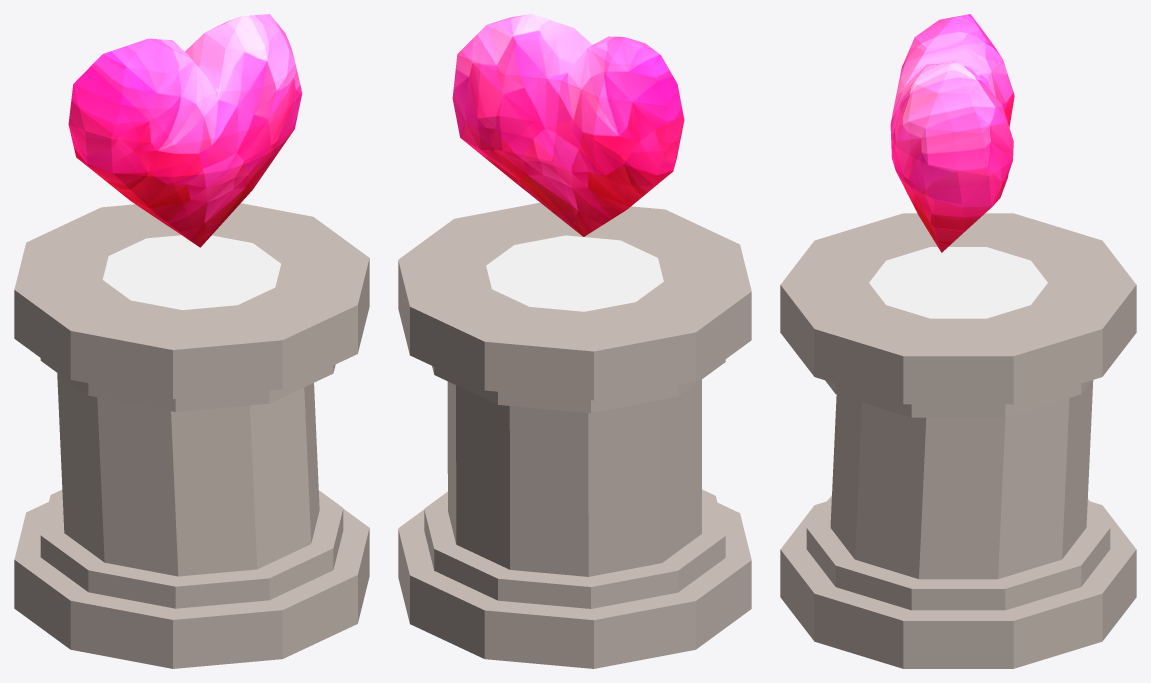
Rendered from GeekGoddess-pillar.glb.
The picture shows the model from 3 angles, left to right: view 1: azimuth 30°, elevation 25°; view 2: azimuth 150°, elevation 25°; view 3: azimuth 270°, elevation 25°; orthographic projection.
Visible parts, largest first — view 1: pillar; view 2: pillar; view 3: pillar.
Boxes of the visible parts, bbox=[...] form: pillar: bbox=[14, 14, 369, 668]; pillar: bbox=[398, 14, 751, 668]; pillar: bbox=[780, 14, 1136, 668].
Size of what is drawn, in the model's own units: 2.77 by 5.02 by 2.91.
3 materials, 2 textured.
